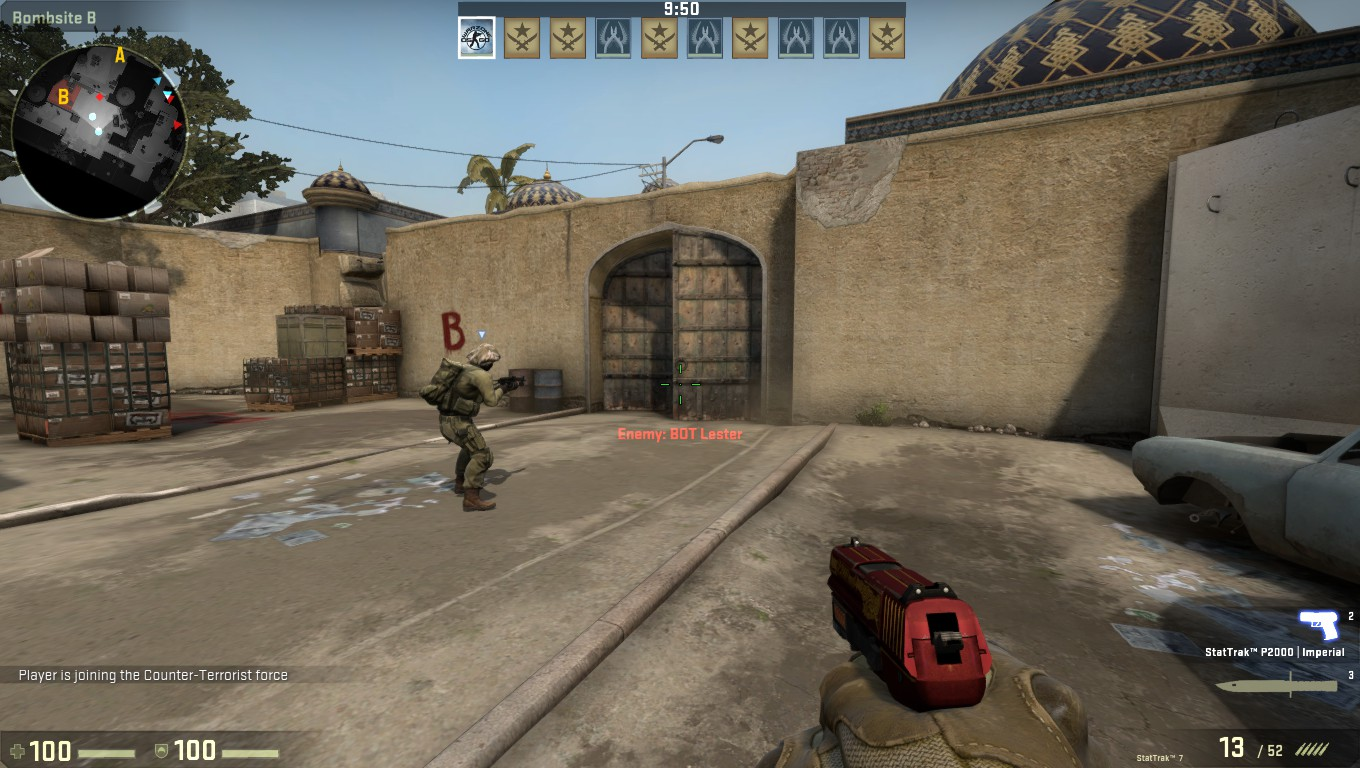c: (428, 342, 511, 513)
ch: (459, 338, 507, 382)
